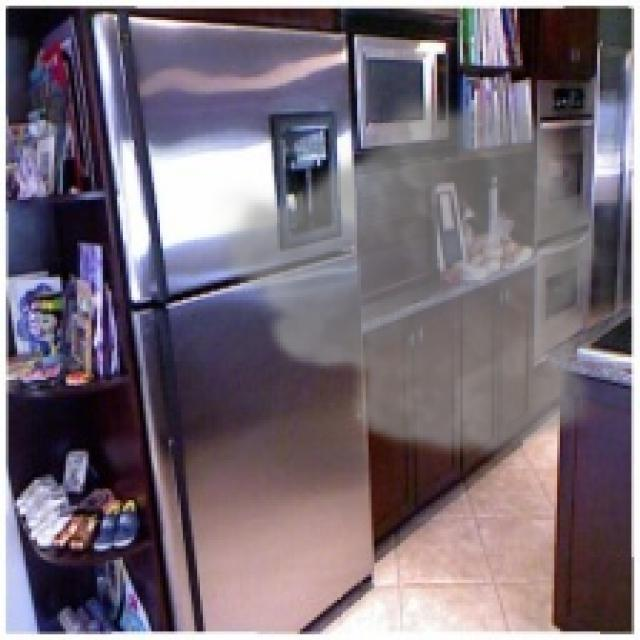Smoke: (211, 86, 606, 463)
